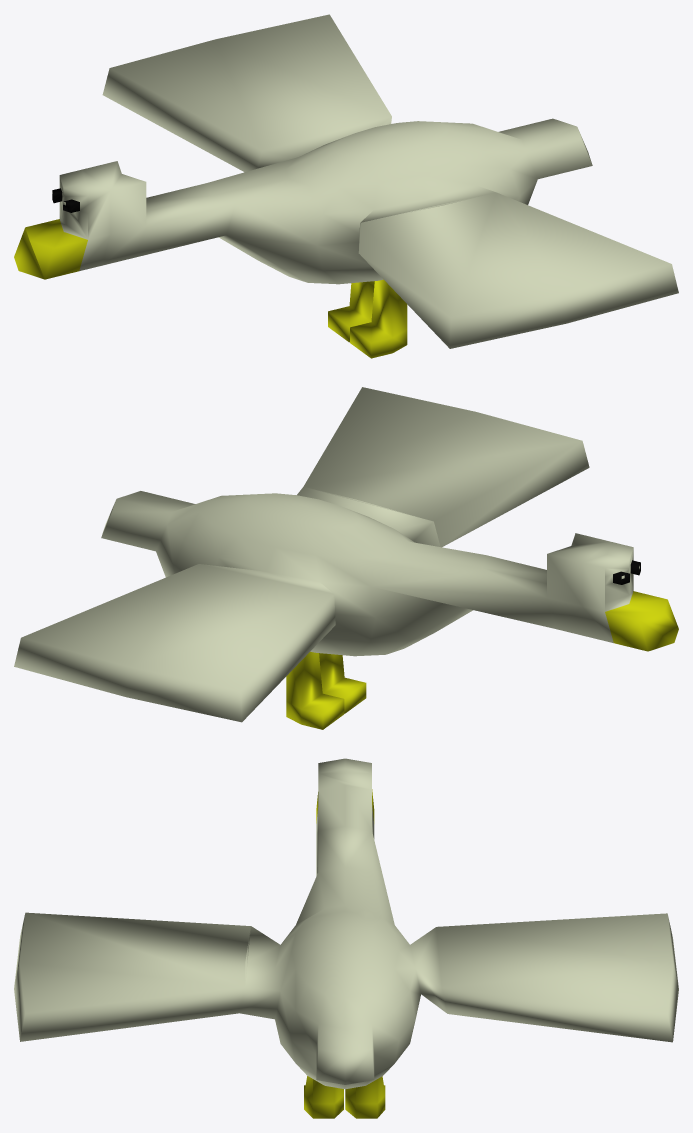
Rendered from Seagull.dae.
3 renders of one model, top to bottom at view 1: azimuth 30°, elevation 25°; view 2: azimuth 150°, elevation 25°; view 3: azimuth 270°, elevation 25°, orthographic. The views are drawn at different scales.
Parts seen in each view (by area): view 1: Seagull-0; view 2: Seagull-0; view 3: Seagull-0.
Boxes of the visible parts, x1,y1,x2,y2 form: Seagull-0: (14, 14, 678, 358); Seagull-0: (14, 387, 678, 729); Seagull-0: (14, 758, 678, 1118).
Bounding box in the file's own units: 3.98 × 1.5 × 4.29.
